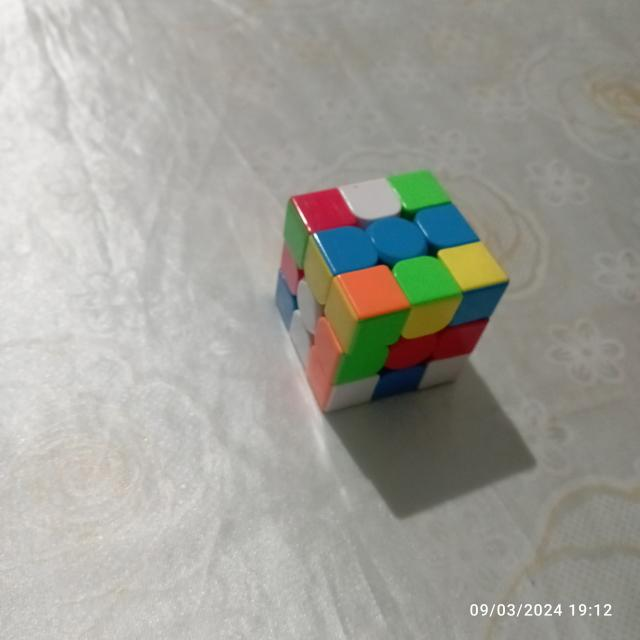Rub: (267, 164, 511, 418)
